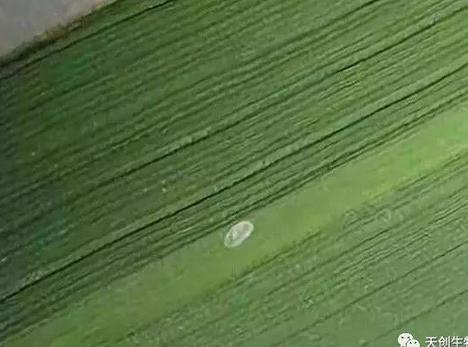pest: (224, 220, 253, 250)
